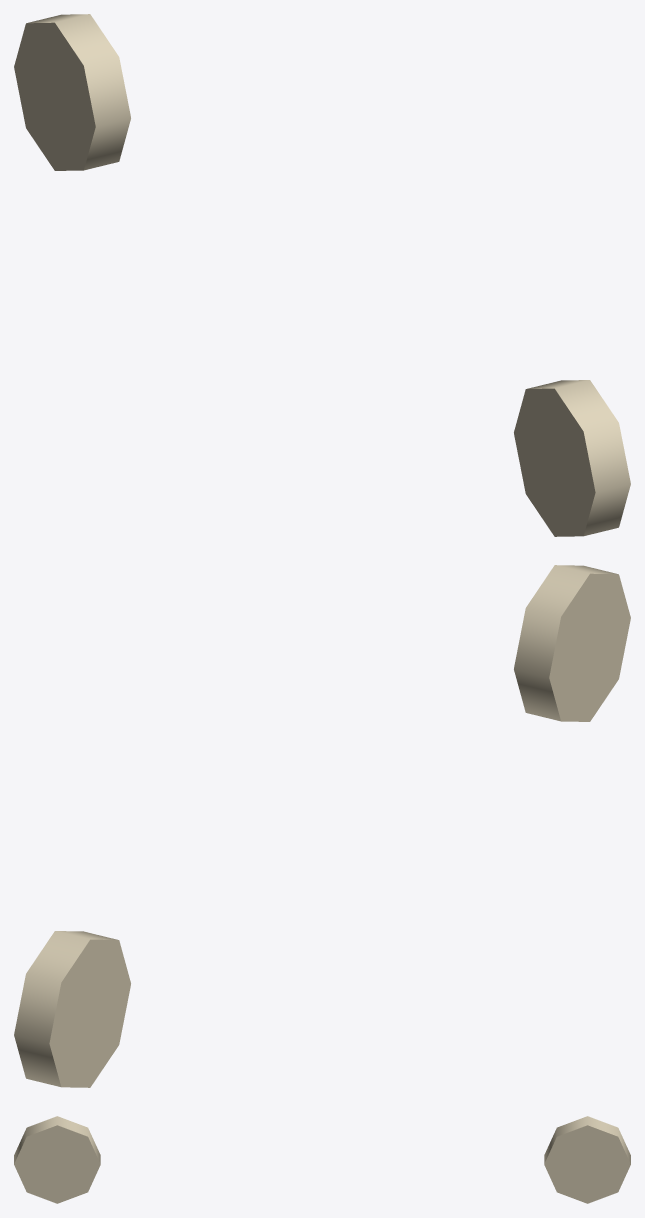
The model's file is kpfe_mount.obj.
3 renders of one model, top to bottom at view 1: azimuth 30°, elevation 25°; view 2: azimuth 150°, elevation 25°; view 3: azimuth 270°, elevation 25°, orthographic. The views are drawn at different scales.
Visible parts, largest first — view 1: kpfe_mount; view 2: kpfe_mount; view 3: kpfe_mount.
Boxes of the visible parts, x1=… form: kpfe_mount: x1=14, y1=14, x2=630, y2=536; kpfe_mount: x1=14, y1=565, x2=630, y2=1087; kpfe_mount: x1=14, y1=1116, x2=630, y2=1203.
Size of the model in its own units: 0.08 by 0.32 by 2.28.
